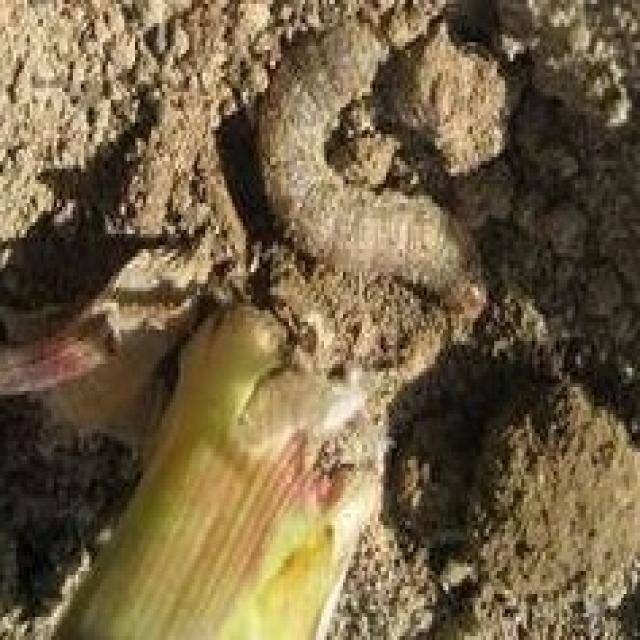black cutworm: (239, 11, 503, 329)
